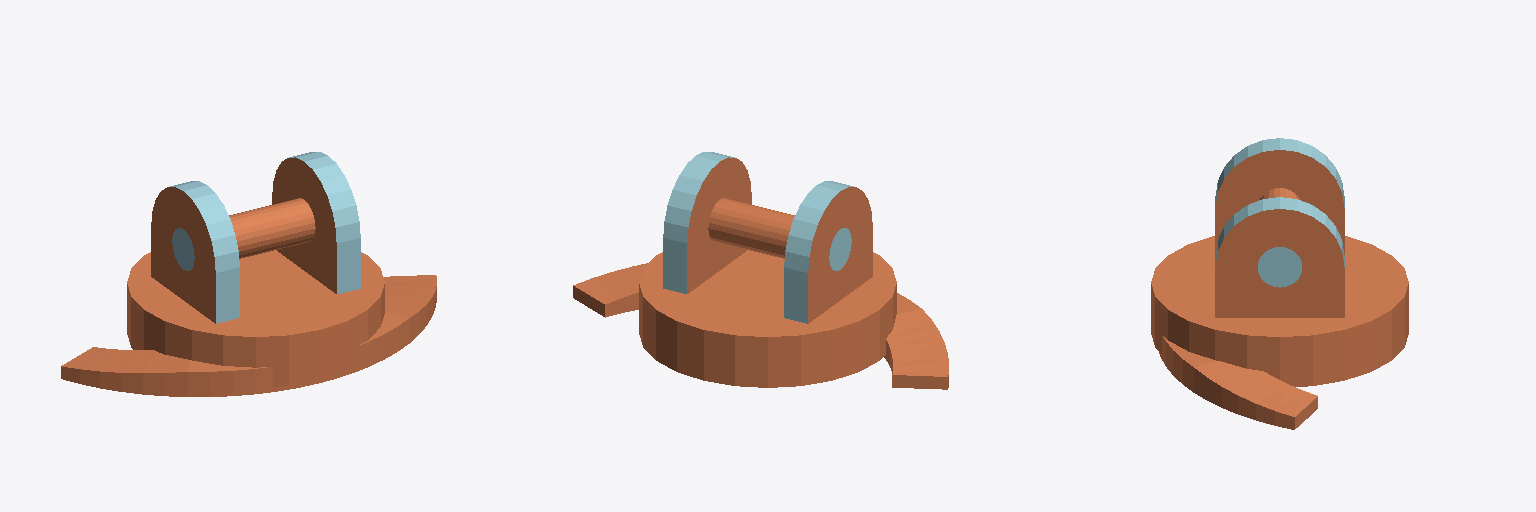
The model's file is weapon_ballista_body.obj.
3 views of the same model, side by side, from view 1: azimuth 30°, elevation 25°; view 2: azimuth 150°, elevation 25°; view 3: azimuth 270°, elevation 25° (orthographic).
Visible parts, largest first — view 1: weapon_ballista, bow; view 2: weapon_ballista, bow; view 3: weapon_ballista, bow.
Boxes of the visible parts, x1=… form: weapon_ballista: x1=127, y1=152, x2=384, y2=386; bow: x1=61, y1=275, x2=436, y2=396; weapon_ballista: x1=639, y1=152, x2=896, y2=387; bow: x1=573, y1=263, x2=948, y2=389; weapon_ballista: x1=1151, y1=138, x2=1408, y2=386; bow: x1=1159, y1=335, x2=1317, y2=429.
Bounding box in the file's own units: 0.7724 × 0.325 × 0.4598.